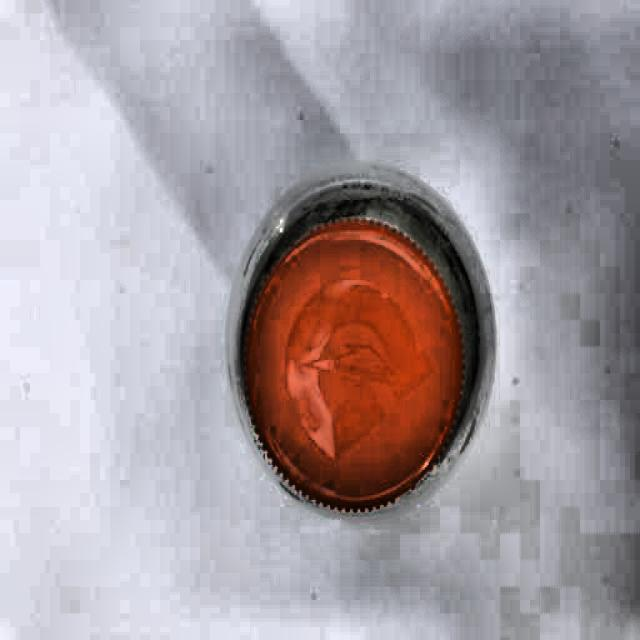plastic: (235, 175, 486, 508)
